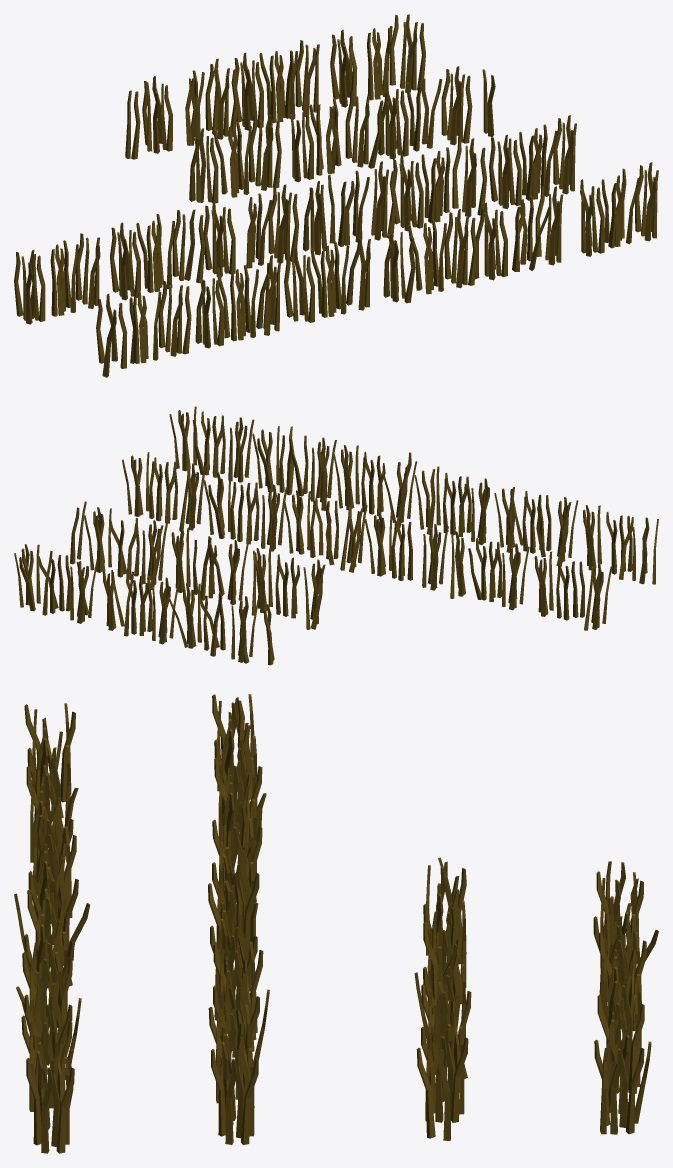
The model's file is Farm_SecondAge_Level2_Wheat.obj.
3 renders of one model, top to bottom at view 1: azimuth 30°, elevation 25°; view 2: azimuth 150°, elevation 25°; view 3: azimuth 270°, elevation 25°, orthographic. The views are drawn at different scales.
Parts seen in each view (by area): view 1: Farm_SecondAge_Level2_Wheat_Plane.004; view 2: Farm_SecondAge_Level2_Wheat_Plane.004; view 3: Farm_SecondAge_Level2_Wheat_Plane.004.
Part boxes in pixels (box(x1,y1,x2,y2)): Farm_SecondAge_Level2_Wheat_Plane.004: box(14, 14, 658, 377); Farm_SecondAge_Level2_Wheat_Plane.004: box(14, 406, 658, 665); Farm_SecondAge_Level2_Wheat_Plane.004: box(14, 694, 658, 1153).
Bounding box in the file's own units: 1.51 × 0.1883 × 1.1.
